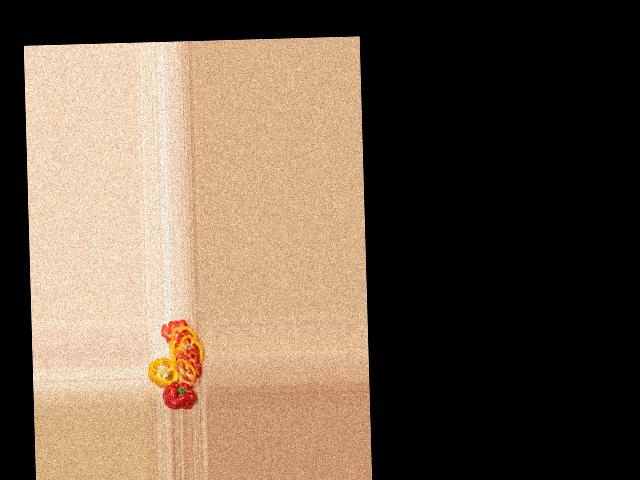bell_pepper: (146, 355, 178, 387)
